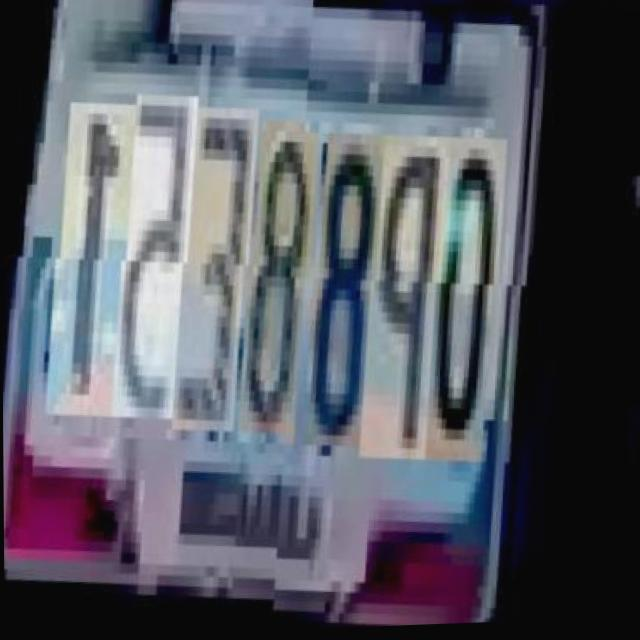1: (49, 120, 136, 439)
5: (117, 112, 198, 440)
8: (308, 138, 385, 456), (243, 137, 320, 454)
e: (178, 124, 259, 451)
o: (427, 142, 508, 469)
p: (365, 140, 453, 467)
